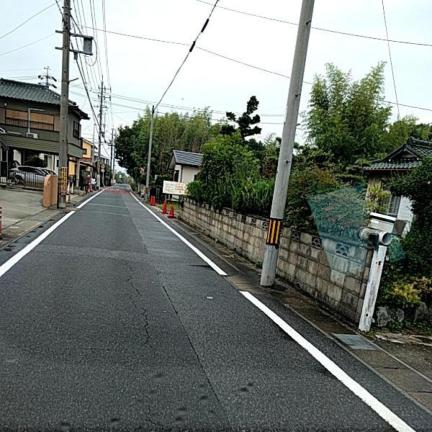Road: (0, 190, 431, 431)
